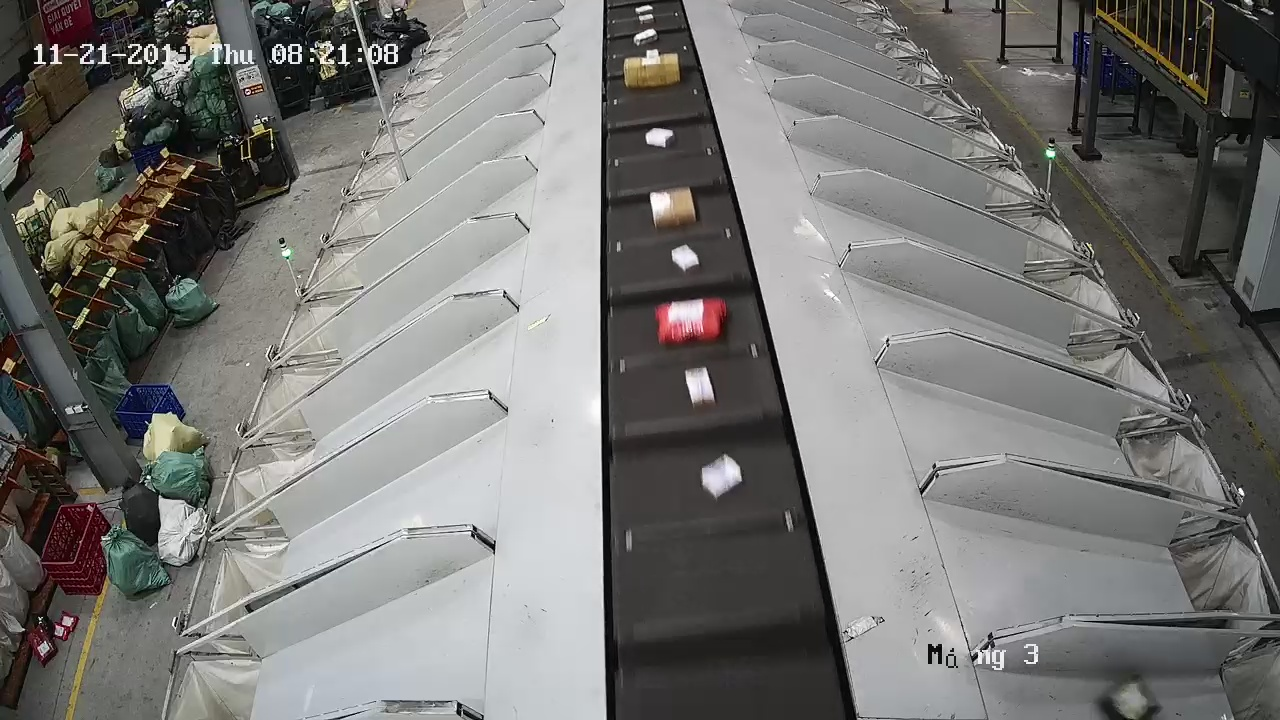parcel: (699, 453, 745, 501), (684, 366, 719, 409)
